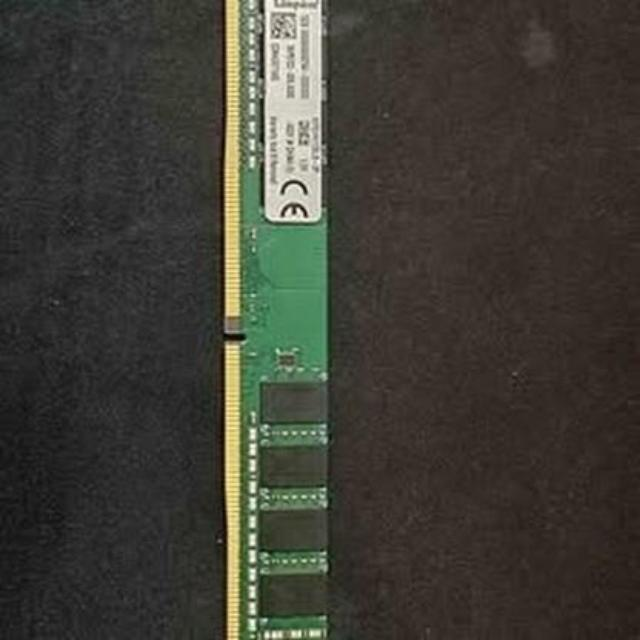RAM: (179, 0, 364, 640)
